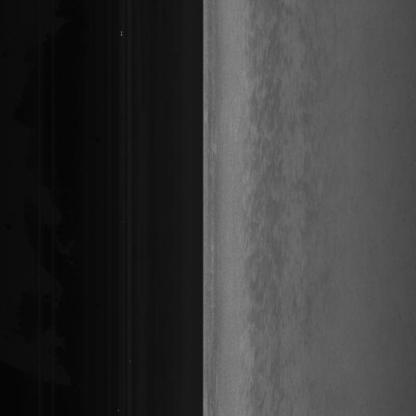silk_spot: (240, 27, 283, 364)
